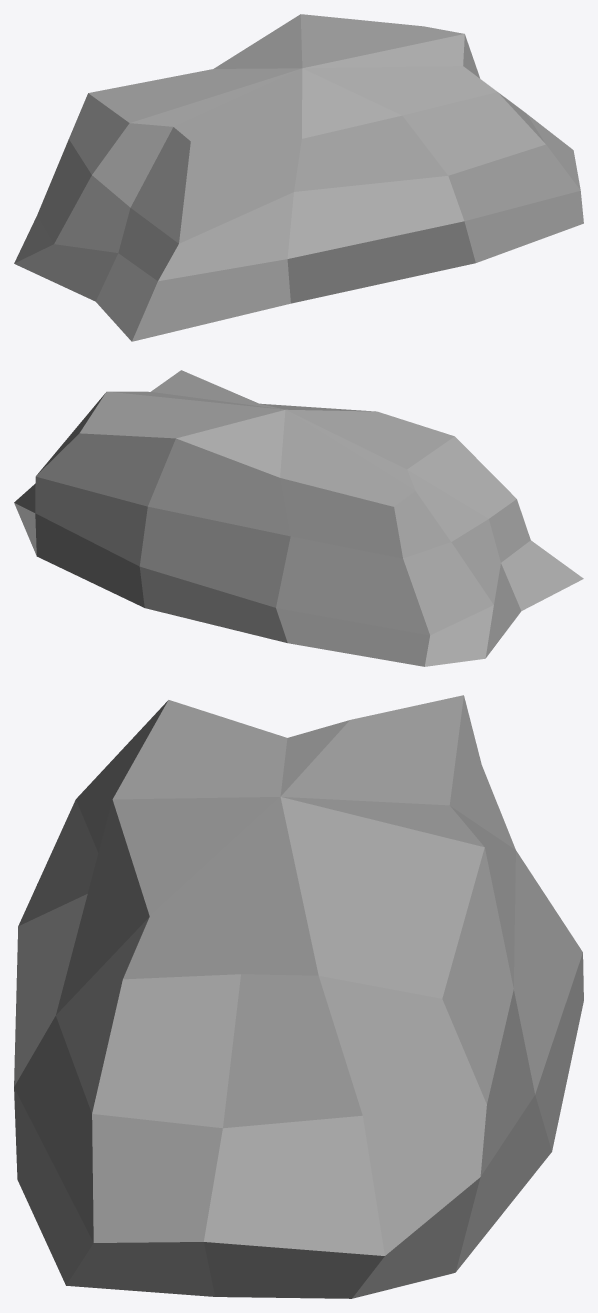
Rendered from CaveRock1.fbx.
3 views of the same model, one above another, from view 1: azimuth 30°, elevation 25°; view 2: azimuth 150°, elevation 25°; view 3: azimuth 270°, elevation 25° (orthographic). The views are drawn at different scales.
Parts seen in each view (by area): view 1: Rock1; view 2: Rock1; view 3: Rock1.
Boxes of the visible parts, x1=… form: Rock1: x1=14, y1=14, x2=583, y2=341; Rock1: x1=14, y1=370, x2=583, y2=666; Rock1: x1=14, y1=695, x2=583, y2=1298.
Size of the model in its own units: 852 by 271 by 474.
